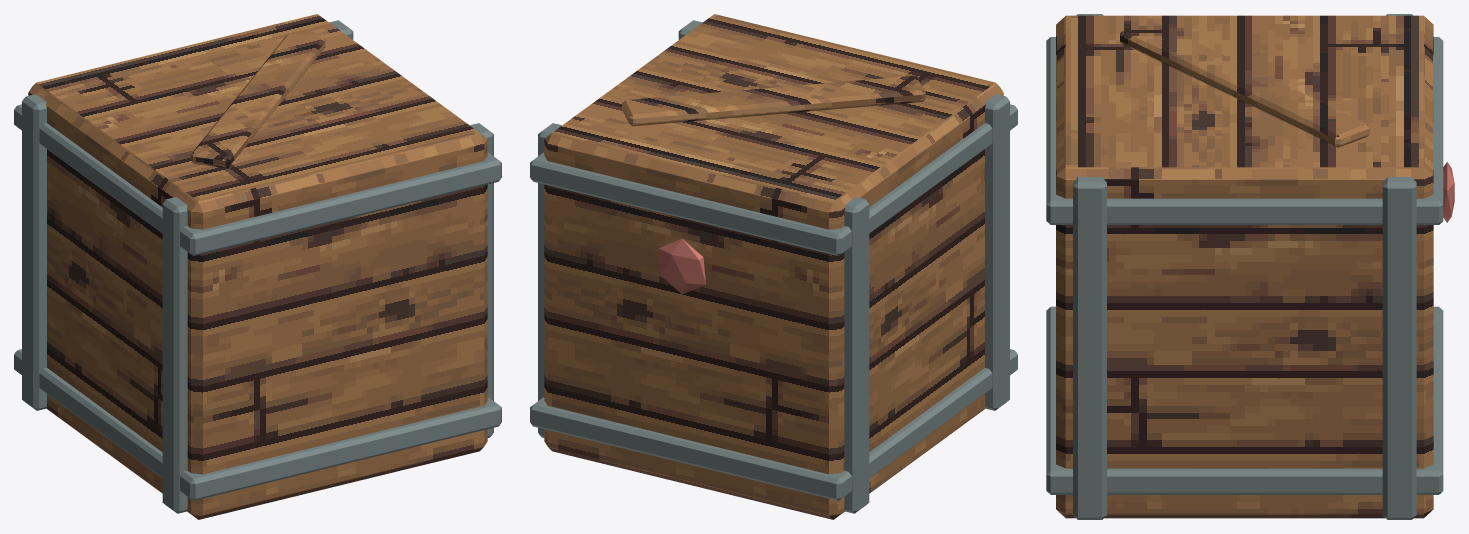
The model's file is caixa.fbx.
3 renders of one model, left to right at view 1: azimuth 30°, elevation 25°; view 2: azimuth 150°, elevation 25°; view 3: azimuth 270°, elevation 25°, orthographic. The views are drawn at different scales.
Visible parts, largest first — view 1: bosque_caixa; view 2: bosque_caixa; view 3: bosque_caixa.
Boxes of the visible parts, x1,y1,x2,y2 form: bosque_caixa: (14, 14, 501, 519); bosque_caixa: (530, 14, 1017, 519); bosque_caixa: (1046, 14, 1454, 519).
Size of the model in its own units: 84.2 by 83.2 by 84.33.
3 materials, 1 textured.
